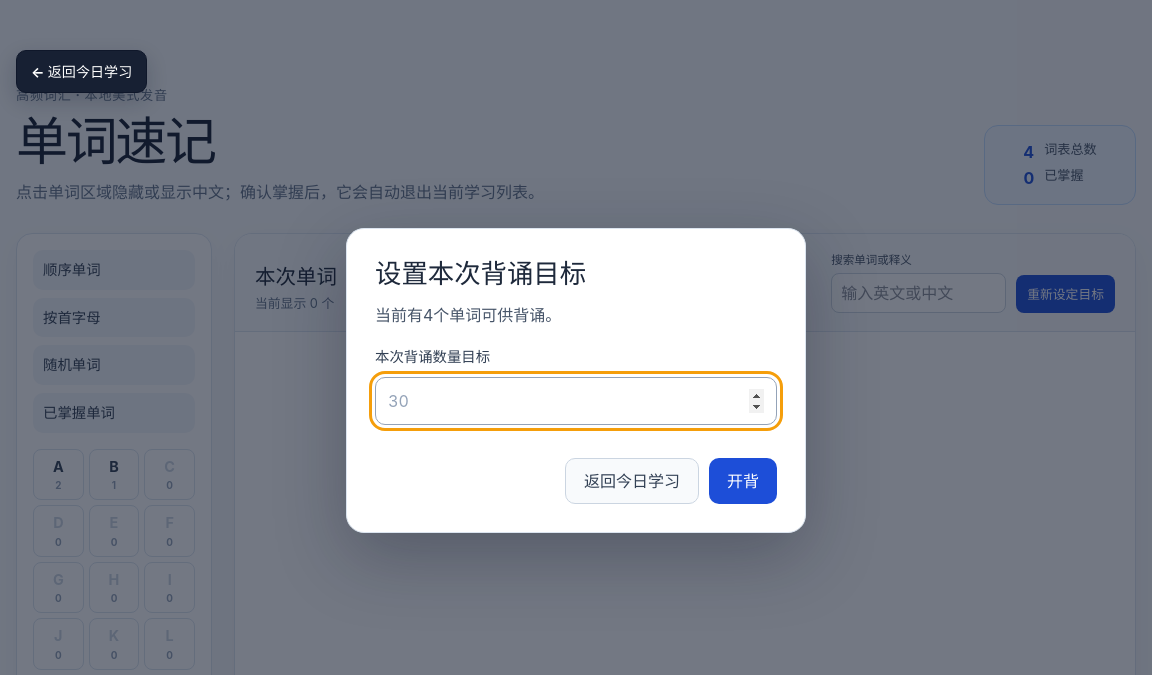
WordQuickStudy › shows a separate definition-state hint while keeping the word body and audio controls independent
This screenshot has width=1152, height=675.
Step 1. Replace the text in the number field labelled "本次背诵数量目标" with "2" → x=576, y=400, box x1=375 y1=376 x2=777 y2=424
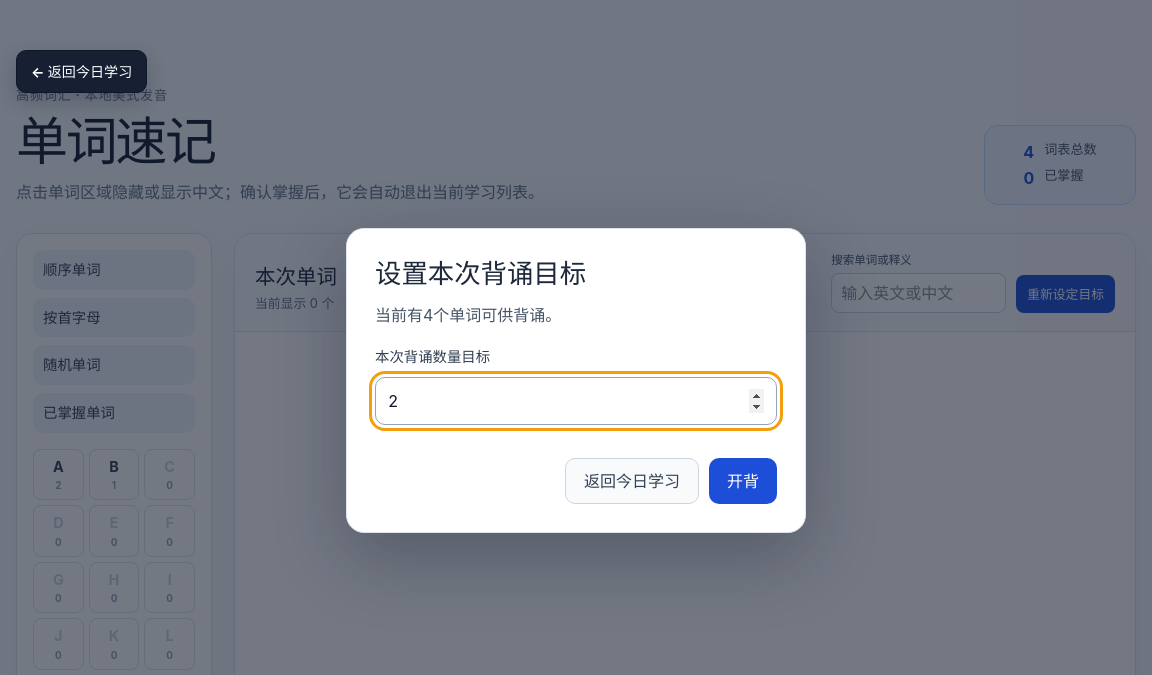
Step 2. Click the button "开背" → x=743, y=480, box x1=709 y1=458 x2=777 y2=504
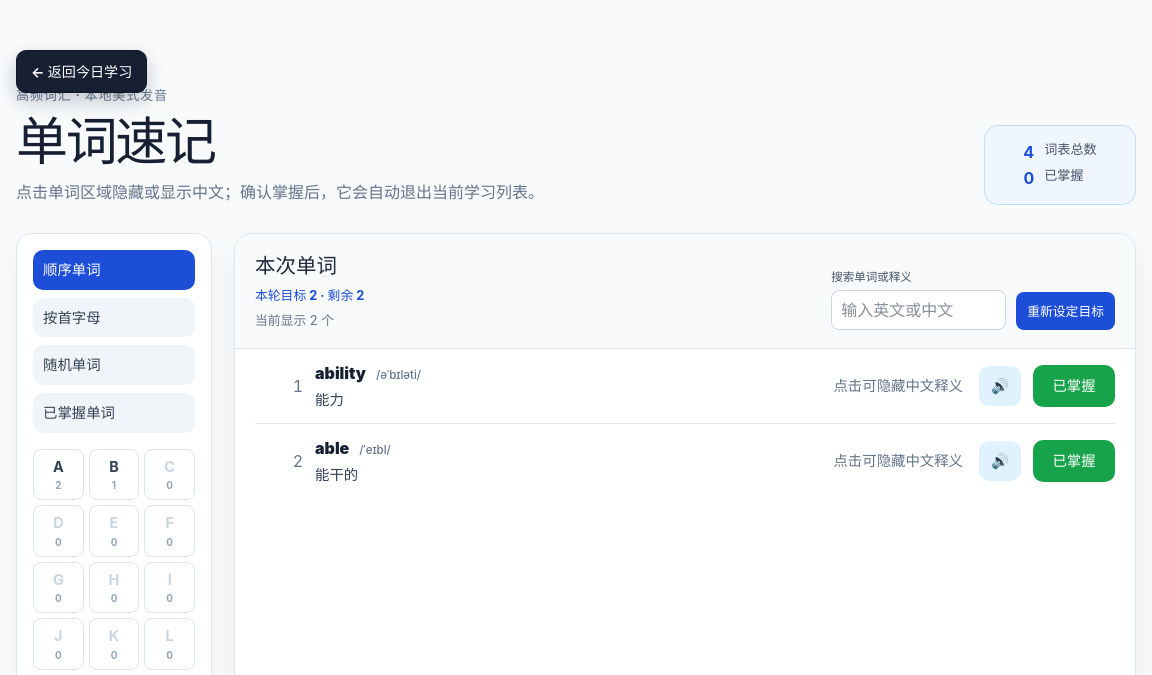
Expected: the button with aria-label "点击可隐藏 ability 的中文释义" reads "点击可隐藏中文释义"
Step 3. Click the button with aria-label "点击可隐藏 ability 的中文释义" → x=898, y=386, box x1=830 y1=367 x2=967 y2=405
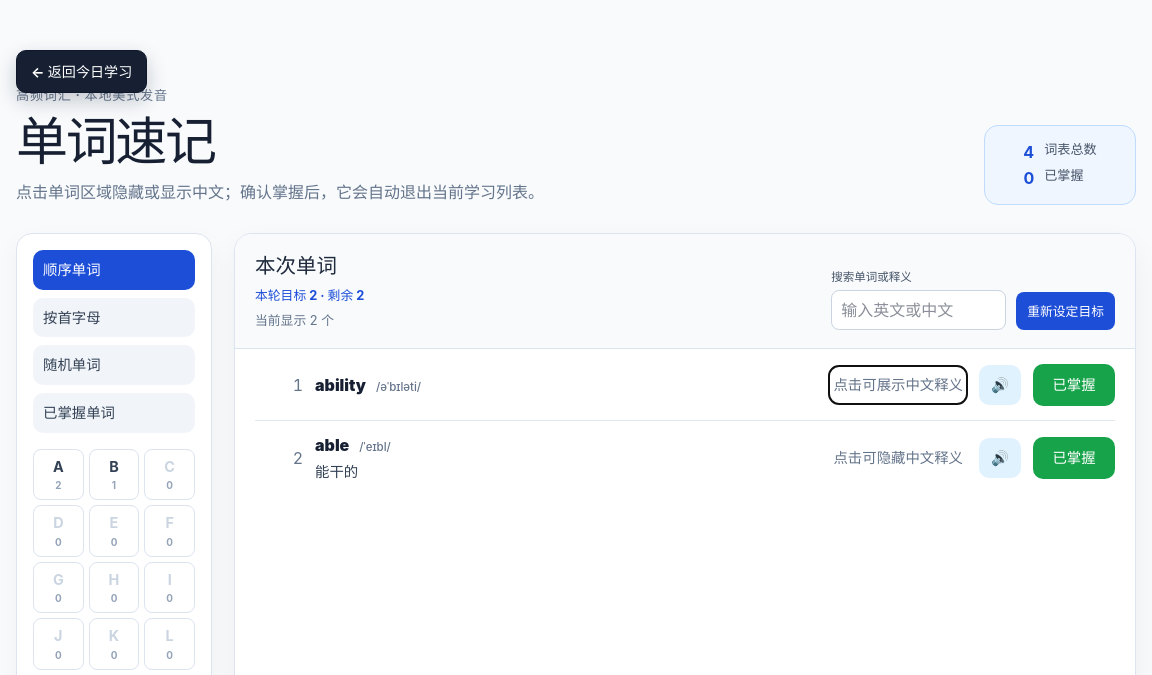
Expected: the button with aria-label "点击可展示 ability 的中文释义" reads "点击可展示中文释义", x1=830 y1=366 x2=967 y2=404
Step 4. Click the button with aria-label "切换 ability 的释义显示" → x=341, y=385, box x1=315 y1=361 x2=818 y2=409
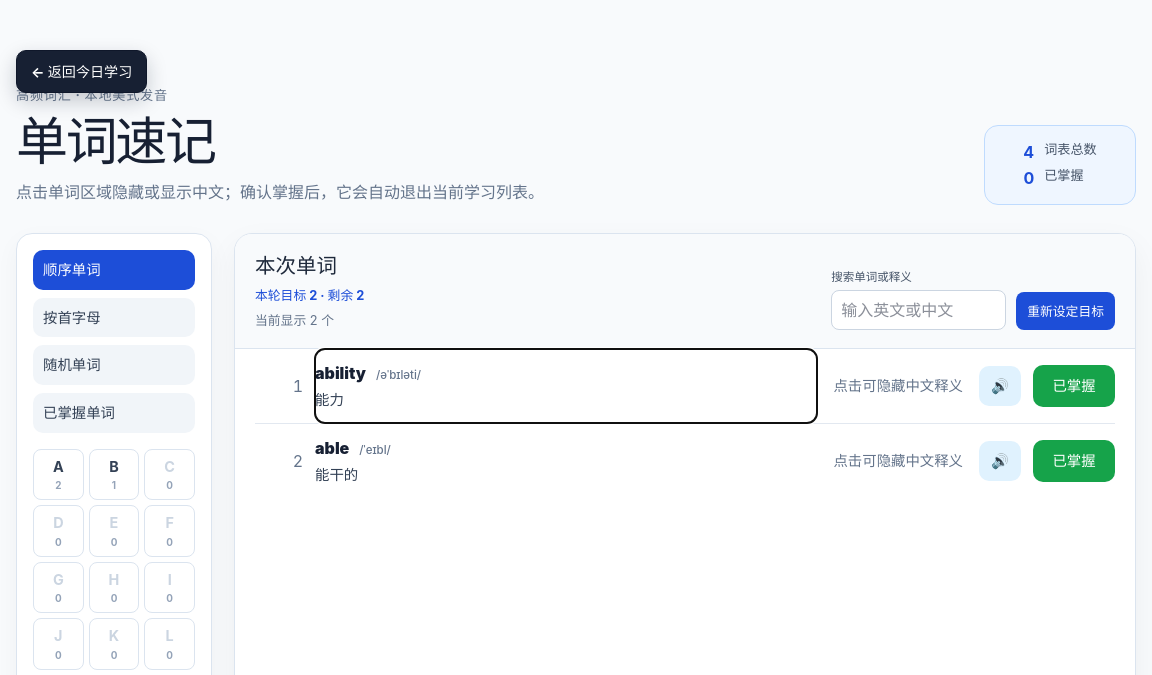
Expected: the text "能力" is shown, x1=315 y1=391 x2=344 y2=408
Step 5. Click the button named "播放 ability 的美式发音" → x=1000, y=386, box x1=979 y1=366 x2=1021 y2=406
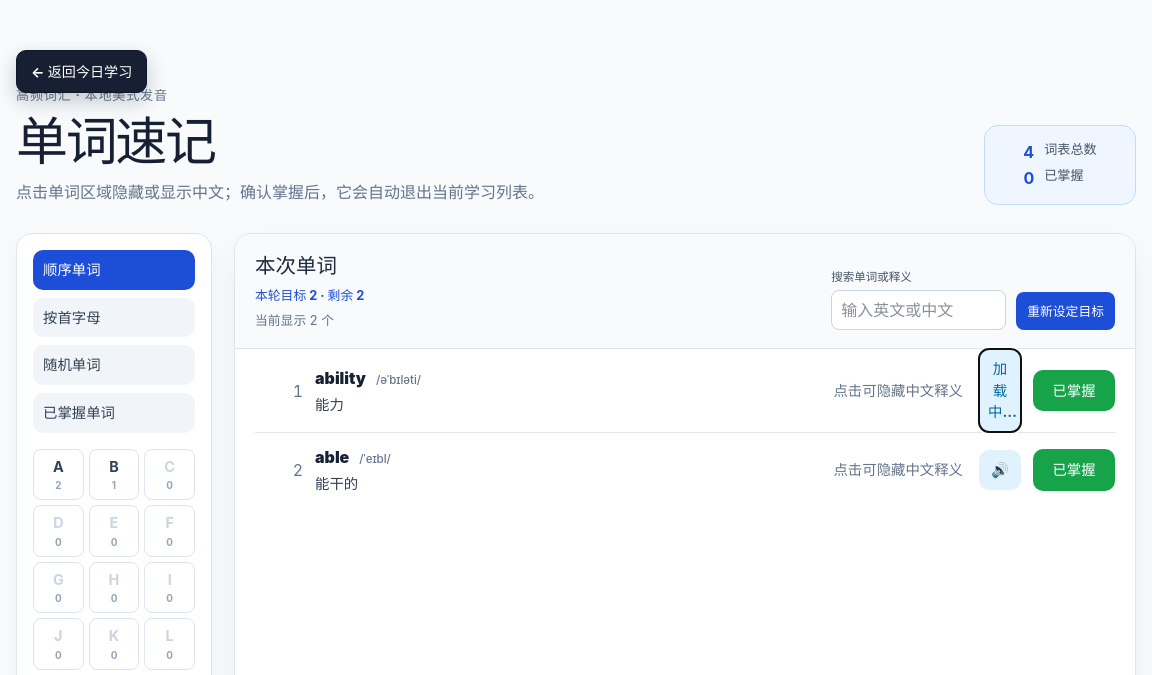
Expected: the text "能力" is shown, x1=315 y1=396 x2=344 y2=413
Expected: the button with aria-label "正在加载 ability 的美式发音" reads "加载中…", x1=979 y1=349 x2=1021 y2=432
